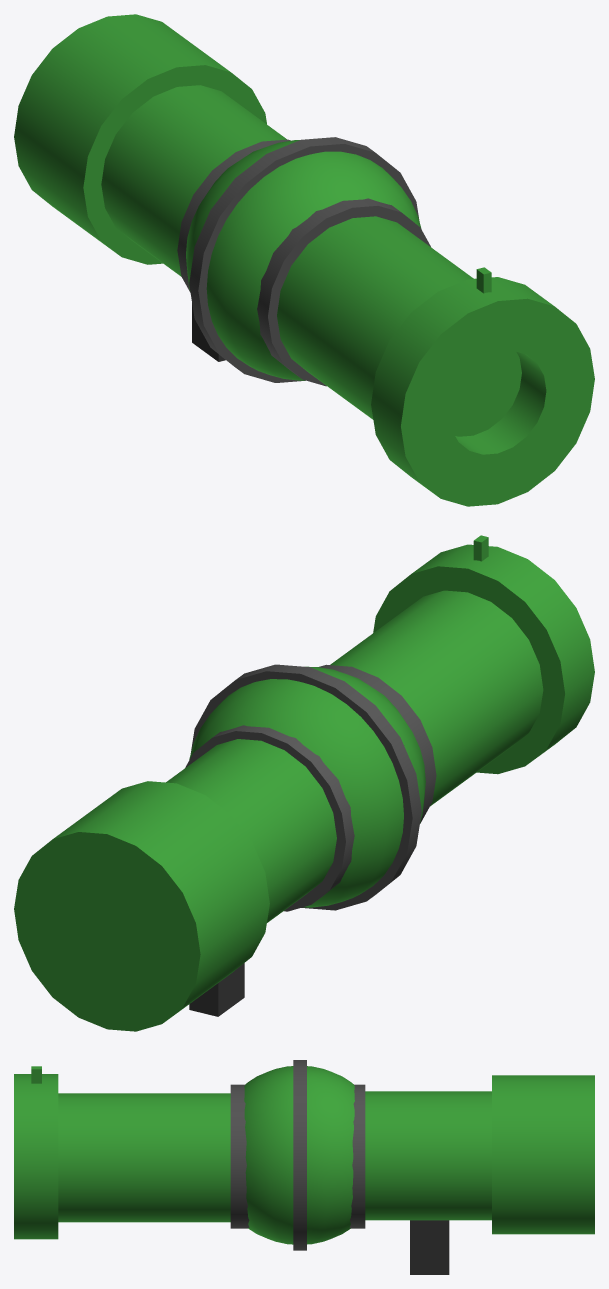
File: green shooter.fbx
3 renders of one model, top to bottom at view 1: azimuth 30°, elevation 25°; view 2: azimuth 150°, elevation 25°; view 3: azimuth 270°, elevation 25°, orthographic. The views are drawn at different scales.
Visible parts, largest first — view 1: polySurface1, polySurface2, polySurface8, polySurface4, polySurface6, polySurface5, polySurface3, polySurface7; view 2: polySurface8, polySurface2, polySurface4, polySurface1, polySurface6, polySurface5, polySurface7, polySurface3, polySurface9; view 3: polySurface2, polySurface6, polySurface8, polySurface4, polySurface1, polySurface5, polySurface3, polySurface9, polySurface7.
Boxes of the visible parts, box(x1,y1,x2,y2) form: polySurface1: box(371, 277, 594, 506); polySurface2: box(277, 216, 521, 436); polySurface8: box(14, 14, 266, 264); polySurface4: box(186, 140, 421, 380); polySurface6: box(101, 85, 286, 276); polySurface5: box(189, 137, 419, 382); polySurface3: box(257, 198, 430, 386); polySurface7: box(177, 139, 290, 292); polySurface8: box(14, 781, 269, 1031); polySurface2: box(330, 590, 543, 806); polySurface4: box(189, 666, 425, 907); polySurface1: box(373, 544, 594, 774); polySurface6: box(166, 739, 336, 922); polySurface5: box(190, 664, 421, 910); polySurface7: box(185, 725, 354, 911); polySurface3: box(318, 664, 436, 823); polySurface9: box(189, 963, 244, 1016); polySurface2: box(58, 1093, 230, 1222); polySurface6: box(365, 1091, 491, 1220); polySurface8: box(492, 1075, 594, 1234); polySurface4: box(244, 1066, 354, 1244); polySurface1: box(14, 1074, 58, 1239); polySurface5: box(293, 1060, 306, 1250); polySurface3: box(230, 1084, 249, 1228); polySurface9: box(410, 1220, 449, 1274); polySurface7: box(349, 1084, 365, 1228).
Size of the model in its own units: 3.31 by 3.84 by 10.03.
